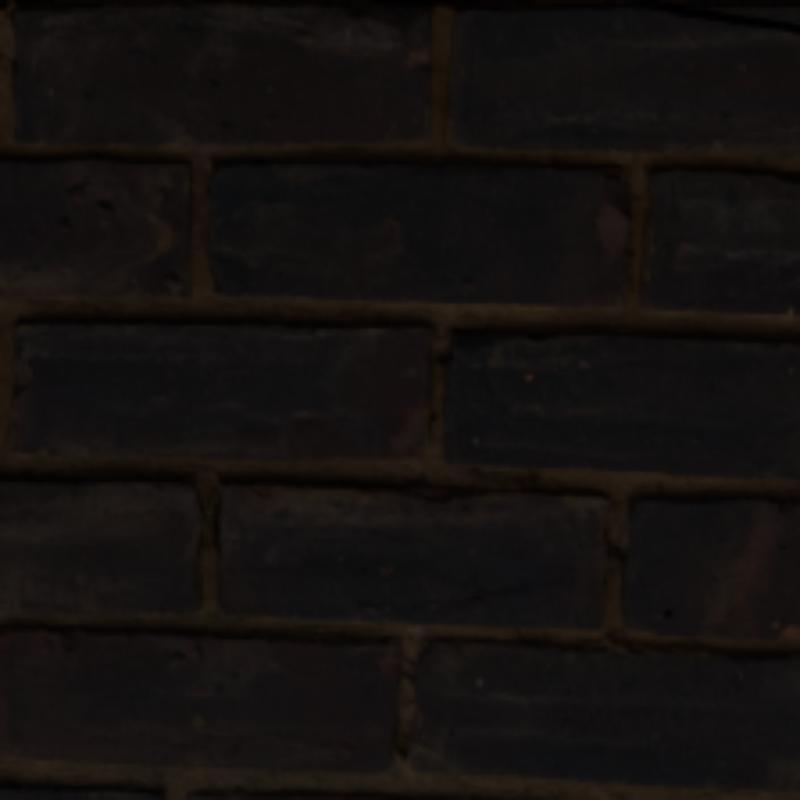crack: (636, 0, 796, 29)
